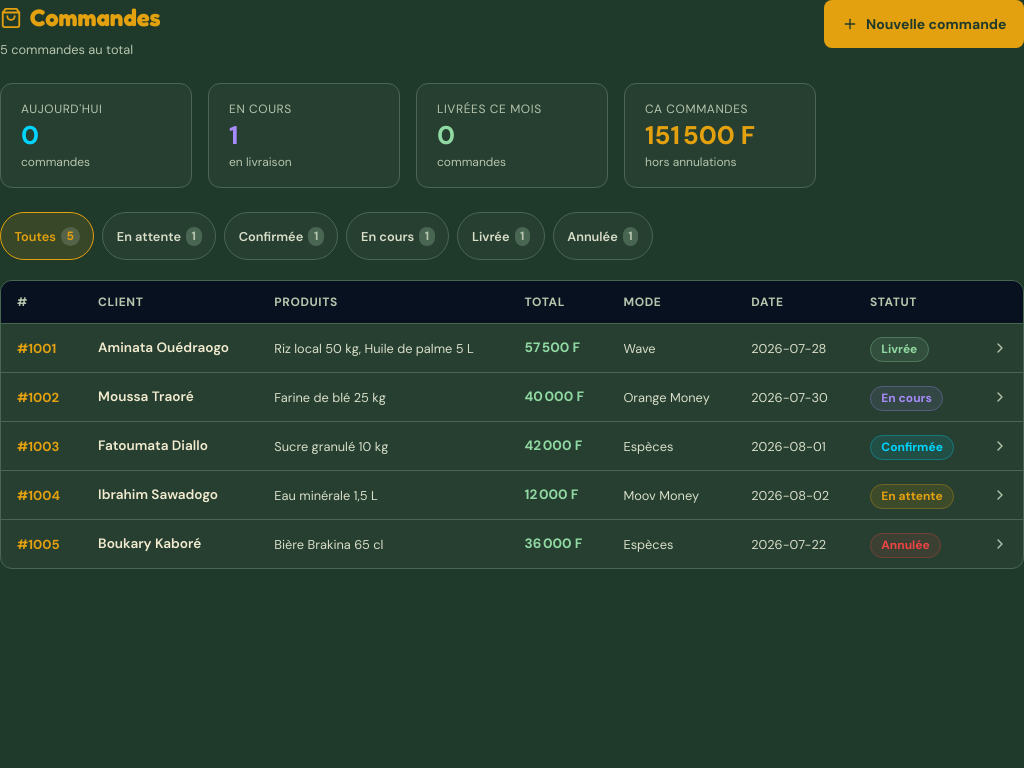
Test: CommandesPage › 29 — "Nouvelle commande" → ouvre le formulaire
What coordinates should you click on to do the following:
click the button "Nouvelle commande"
I would click on:
 (924, 24)
Its box is 824,0 -> 1023,48.
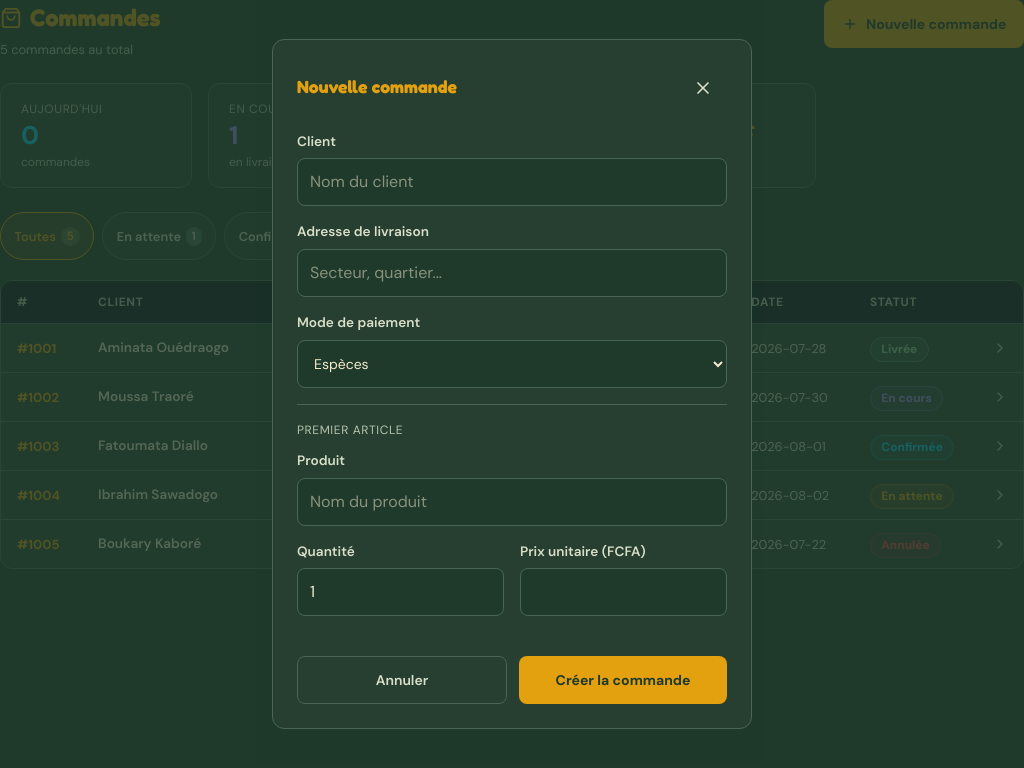
Now the field with placeholder "Nom du client" is shown, box 297,158 -> 727,206
